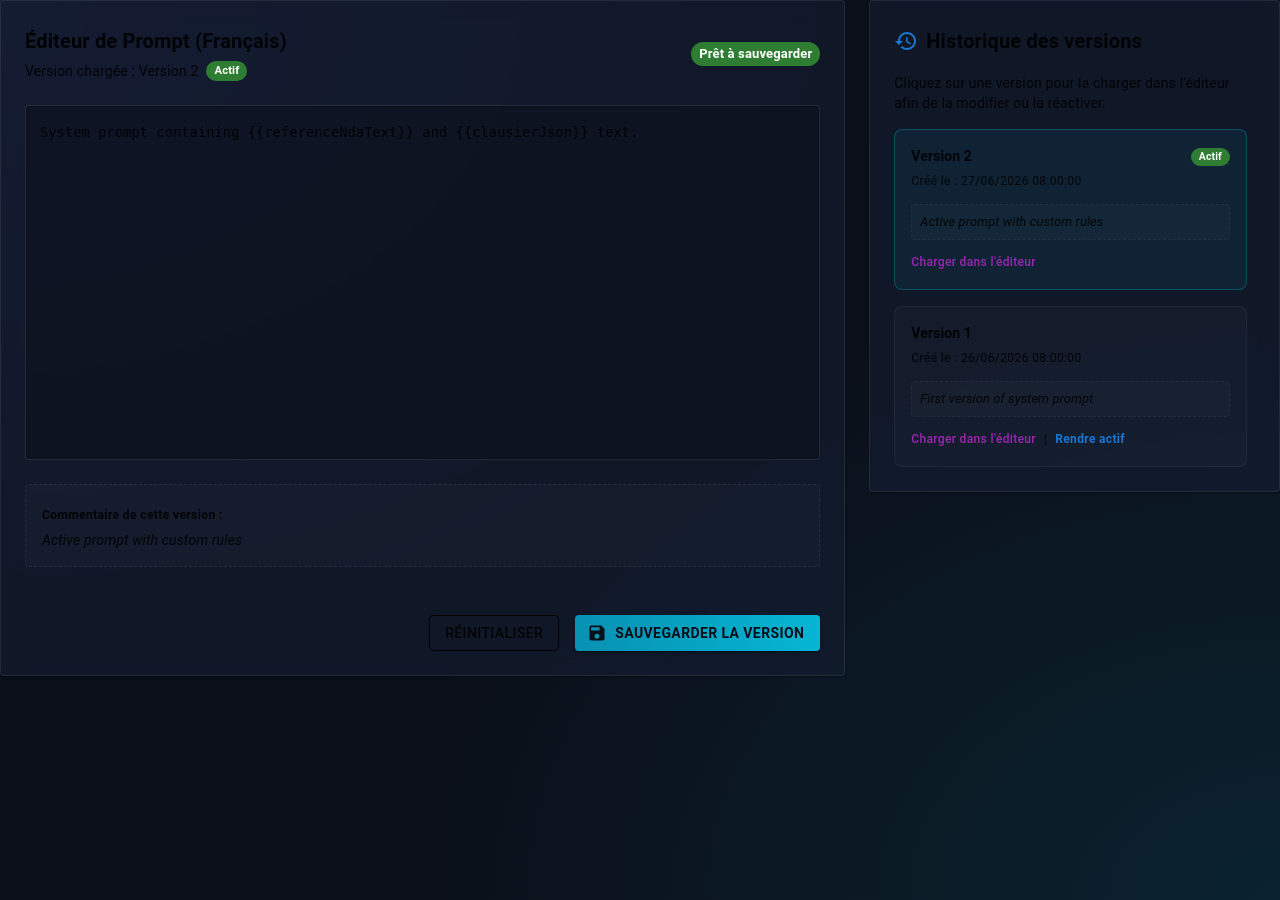
Test: PromptsPanel Component › validates missing template tags in editor text
Expected: the text "Version chargée : Version 2" is shown, [25,61,198,81]
// Remove tags
Replace the text in the text box with placeholder "Saisissez le prompt système ici..." with "Text without required tags." at (423, 282), box [40,122,805,442]
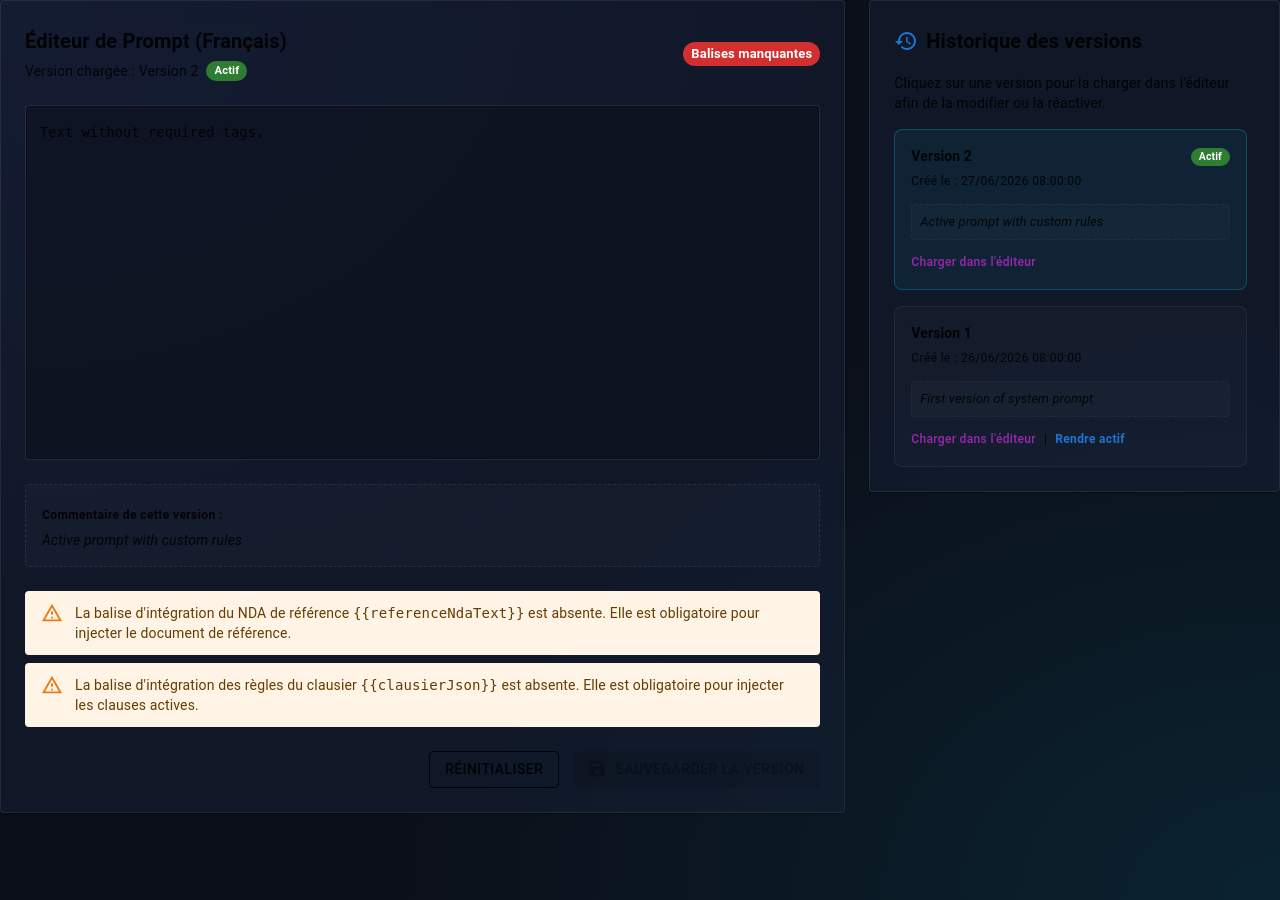
Result: the text "Balises manquantes" is shown at [683,44,820,64]
Result: the text "La balise d'intégration du NDA de référence" is shown at [75,605,353,621]
Result: the text "La balise d'intégration des règles du clausier" is shown at [75,677,361,693]
